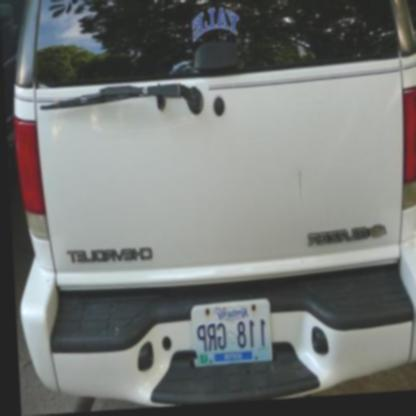License_Plate: (189, 298, 274, 371)
